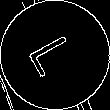L_NE: (26, 29, 84, 81)
